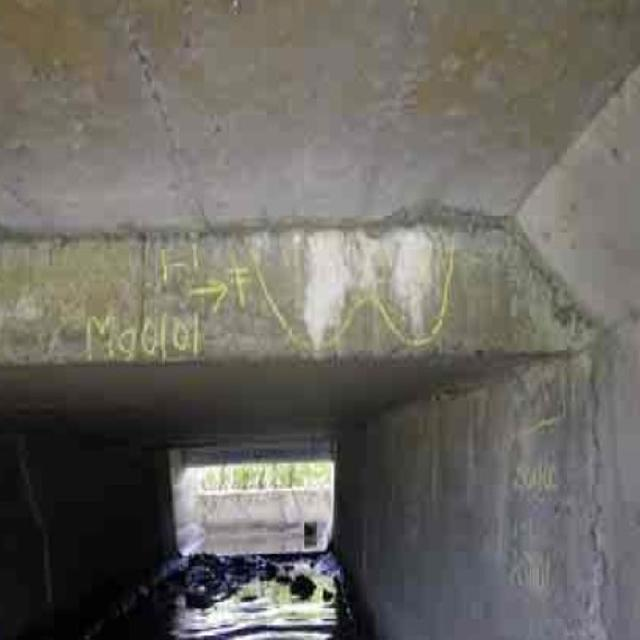freelime: (273, 218, 458, 348)
